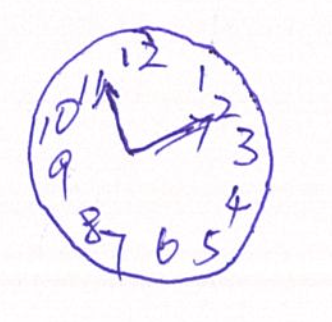1: (194, 63, 209, 94)
10: (36, 96, 82, 146)
11: (77, 66, 104, 106)
12: (120, 42, 171, 71)
2: (210, 92, 241, 123)
3: (231, 123, 259, 168)
4: (223, 185, 253, 230)
5: (193, 224, 221, 267)
6: (152, 226, 181, 265)
7: (95, 229, 126, 284)
8: (77, 204, 103, 248)
9: (46, 147, 74, 204)
contour: (25, 24, 275, 286)
hand: (93, 79, 211, 154)
top_left_arrow: (92, 80, 131, 154)
top_right_arrow: (128, 113, 215, 155)
